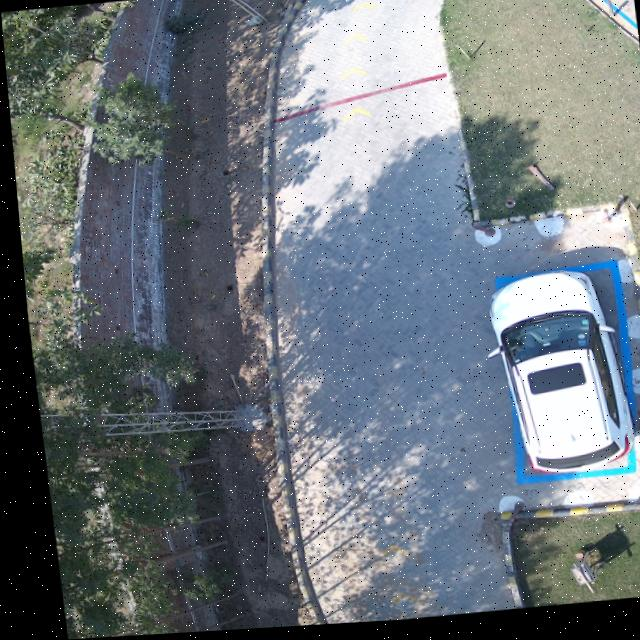car: (483, 276, 624, 479)
